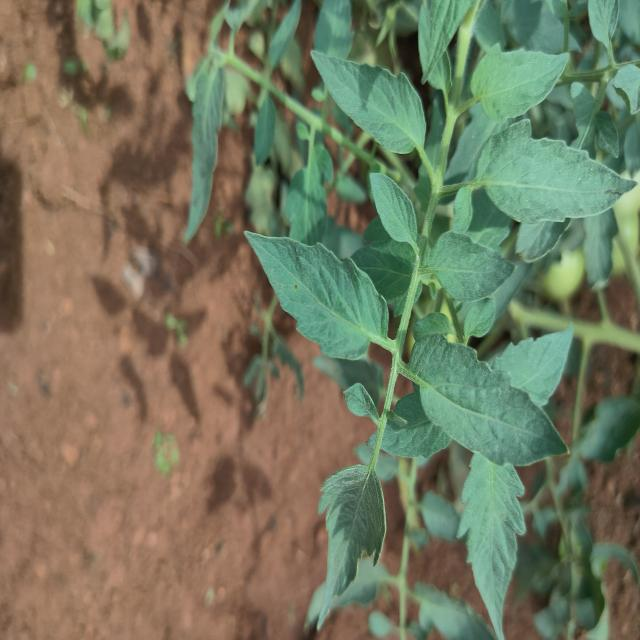tomato_healthy: (405, 334, 567, 465), (246, 231, 394, 359), (476, 118, 633, 223), (458, 401, 524, 640), (312, 50, 426, 152), (318, 465, 387, 631), (474, 315, 590, 403), (472, 42, 570, 120), (184, 66, 224, 240), (426, 230, 516, 300), (370, 172, 419, 255)
